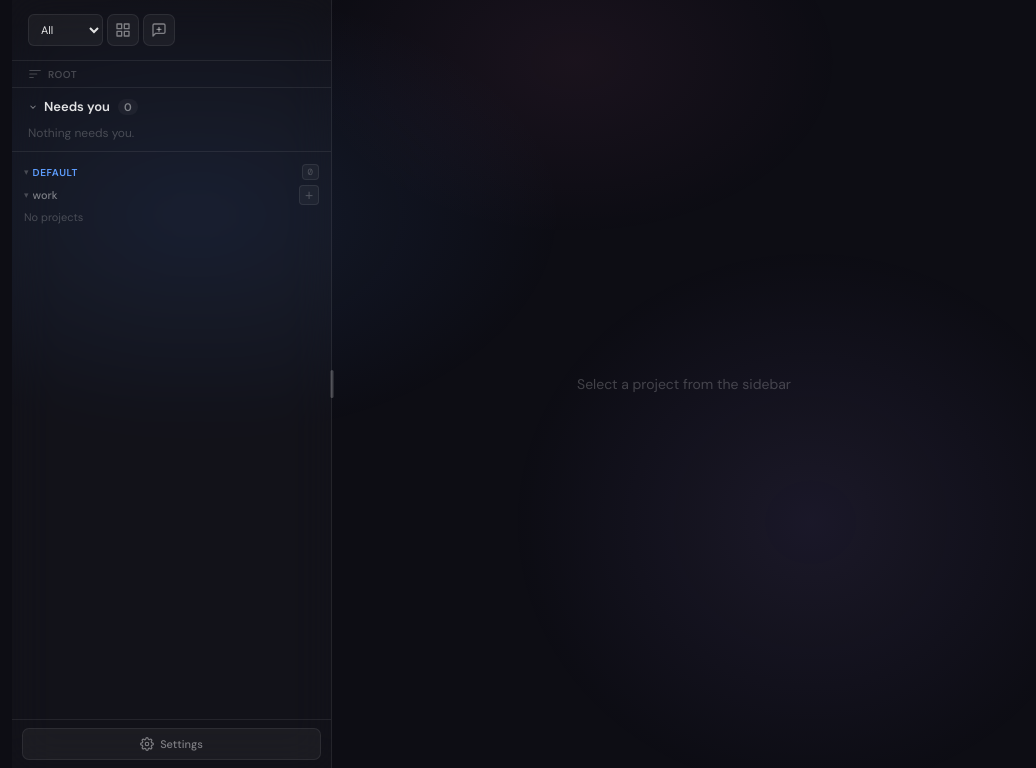
Test: Add server (#311) › is in the gear menu beside View Settings, and opens Add server closing the menu (phone: false)
The image size is (1036, 768).
Click the button with class "sidebar-settings-btn". click: [172, 744]
box: x1=22 y1=728 x2=321 y2=760
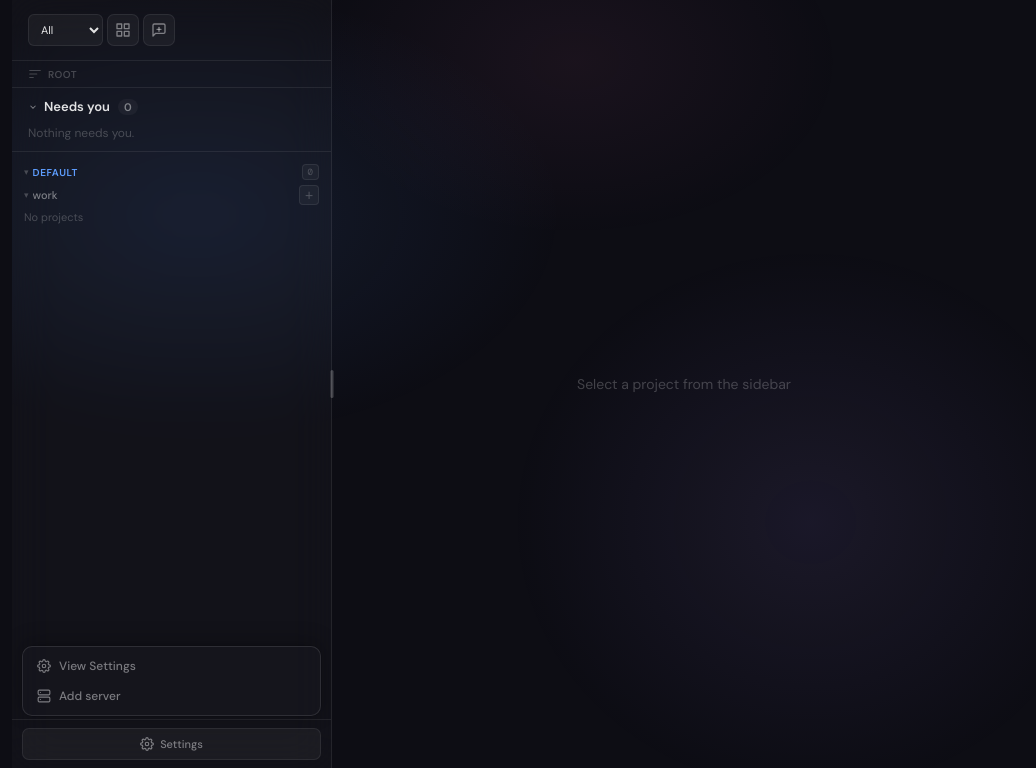
Click the button with class "sidebar-footer-menu-item" showing "Add server". click: [90, 696]
box: x1=27 y1=681 x2=316 y2=711
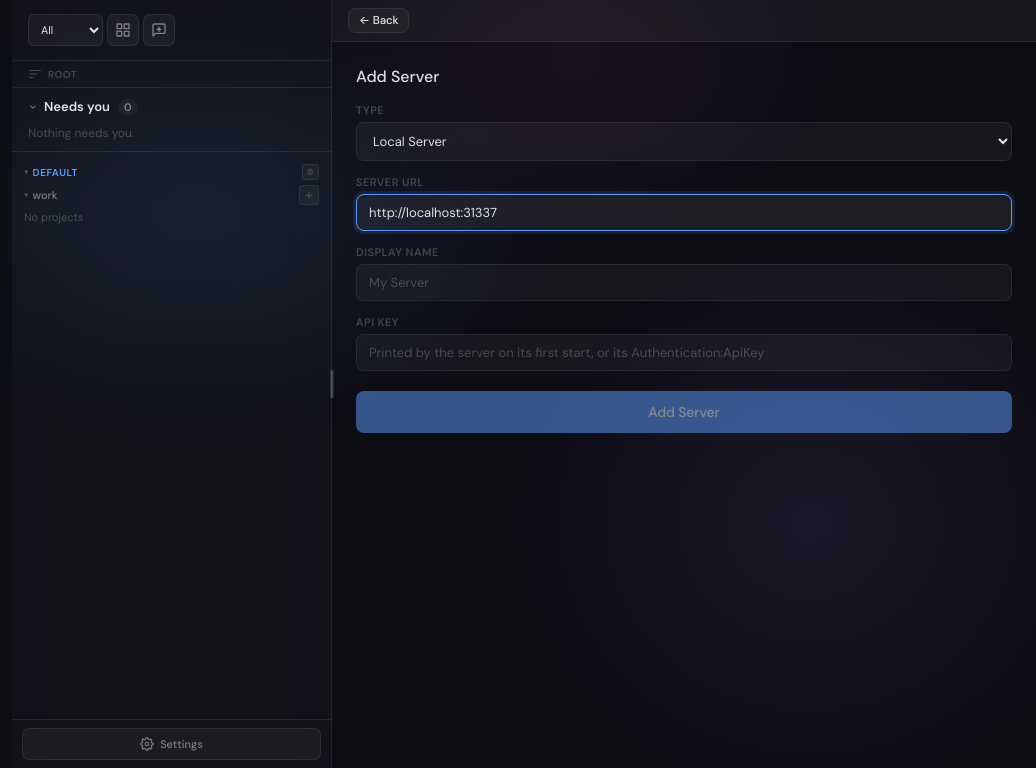
Check: the heading "Add Server" is shown, box x1=356 y1=66 x2=439 y2=87
Check: the element with class "sidebar-footer-menu" is gone
